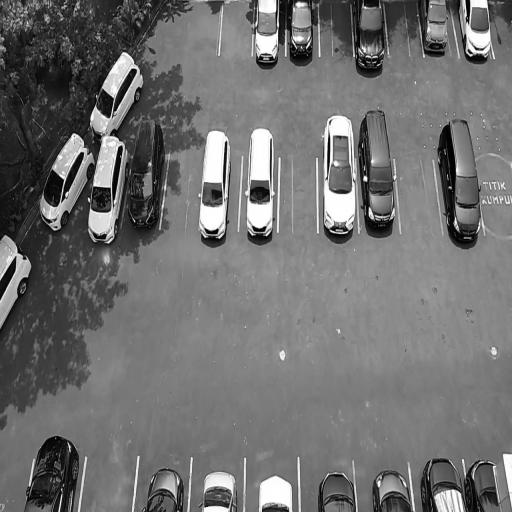Car: (30, 126, 100, 240), (80, 135, 134, 253), (83, 49, 150, 144), (437, 118, 483, 248), (358, 109, 401, 244), (122, 117, 169, 236), (196, 126, 236, 253), (19, 438, 84, 512), (322, 111, 357, 248), (0, 227, 40, 341), (242, 126, 277, 253), (420, 453, 464, 512), (355, 0, 387, 81), (456, 0, 494, 66), (418, 0, 454, 63), (466, 451, 500, 512), (370, 468, 415, 512), (144, 465, 186, 512), (288, 0, 316, 68), (198, 469, 241, 512), (317, 467, 358, 512), (255, 0, 281, 70), (259, 474, 296, 512)
Space Available: (395, 150, 441, 235), (161, 153, 203, 234), (79, 456, 138, 512), (279, 155, 318, 235), (478, 154, 511, 234), (383, 0, 425, 53), (218, 0, 254, 61), (319, 0, 353, 58), (488, 1, 512, 66)
